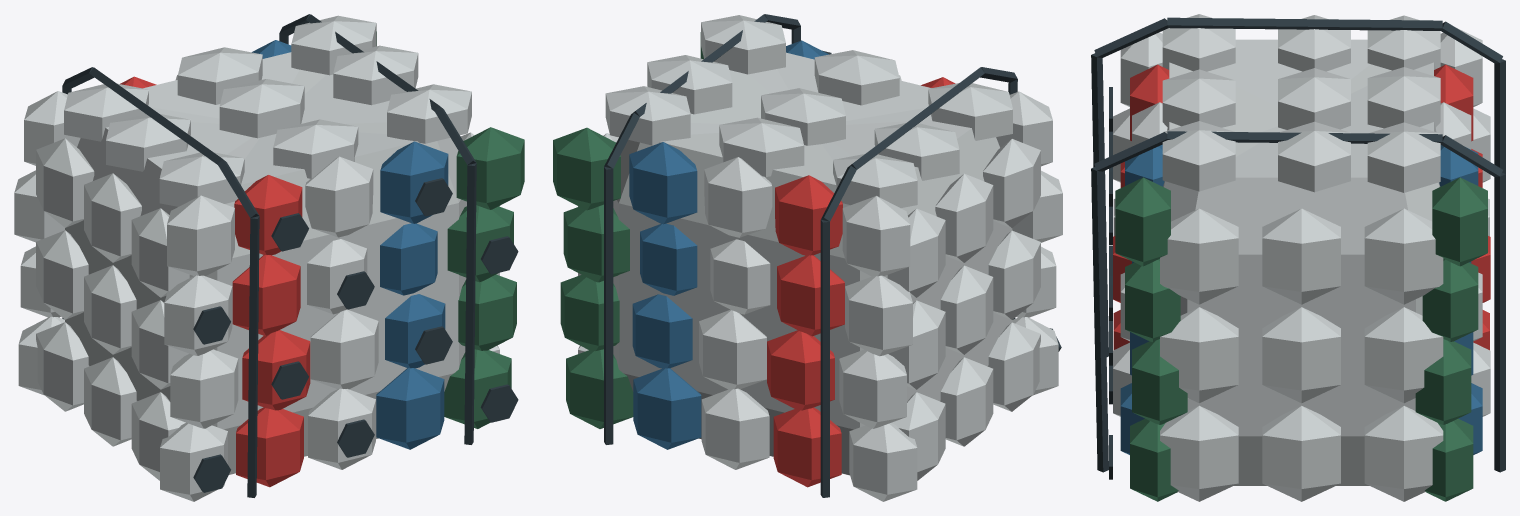
The model's file is b04_compressed_aluminum_can_bale.glb.
3 views of the same model, side by side, from view 1: azimuth 30°, elevation 25°; view 2: azimuth 150°, elevation 25°; view 3: azimuth 270°, elevation 25° (orthographic). The views are drawn at different scales.
Visible parts, largest first — view 1: b04_compressed_aluminum_can_bale; view 2: b04_compressed_aluminum_can_bale; view 3: b04_compressed_aluminum_can_bale.
Part boxes in pixels (x1,y1,x2,y2): b04_compressed_aluminum_can_bale: (14, 14, 524, 501); b04_compressed_aluminum_can_bale: (553, 14, 1062, 501); b04_compressed_aluminum_can_bale: (1091, 14, 1505, 501).
Bounding box in the file's own units: 0.6996 × 0.6146 × 0.648.
